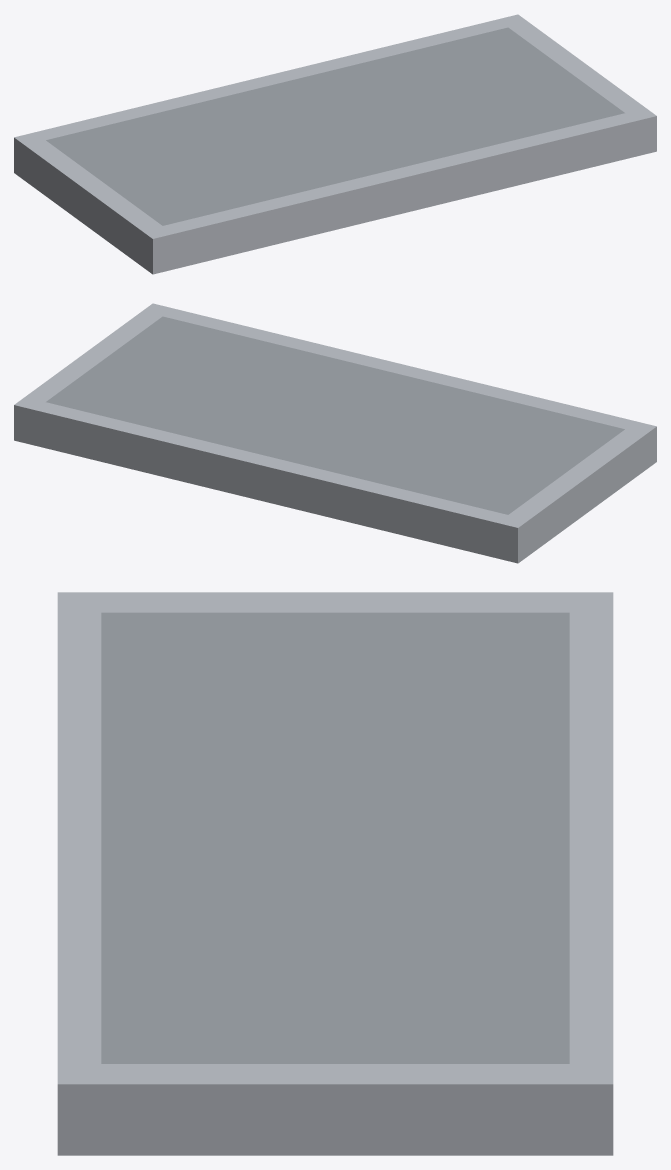
Rendered from SM_Prop_Lighting_Ceiling_Bar_02.obj.
The picture shows the model from 3 angles, top to bottom: view 1: azimuth 30°, elevation 25°; view 2: azimuth 150°, elevation 25°; view 3: azimuth 270°, elevation 25°; orthographic projection. The views are drawn at different scales.
Parts seen in each view (by area): view 1: SM_Prop_Lighting_Ceiling_Bar_02_0; view 2: SM_Prop_Lighting_Ceiling_Bar_02_0; view 3: SM_Prop_Lighting_Ceiling_Bar_02_0.
Part boxes in pixels (bbox=[...]): SM_Prop_Lighting_Ceiling_Bar_02_0: bbox=[14, 14, 656, 274]; SM_Prop_Lighting_Ceiling_Bar_02_0: bbox=[14, 303, 656, 563]; SM_Prop_Lighting_Ceiling_Bar_02_0: bbox=[57, 592, 613, 1155].
Bounding box in the file's own units: 1.61 × 0.1089 × 0.7703.
Materials: 1 (1 with a texture image).
